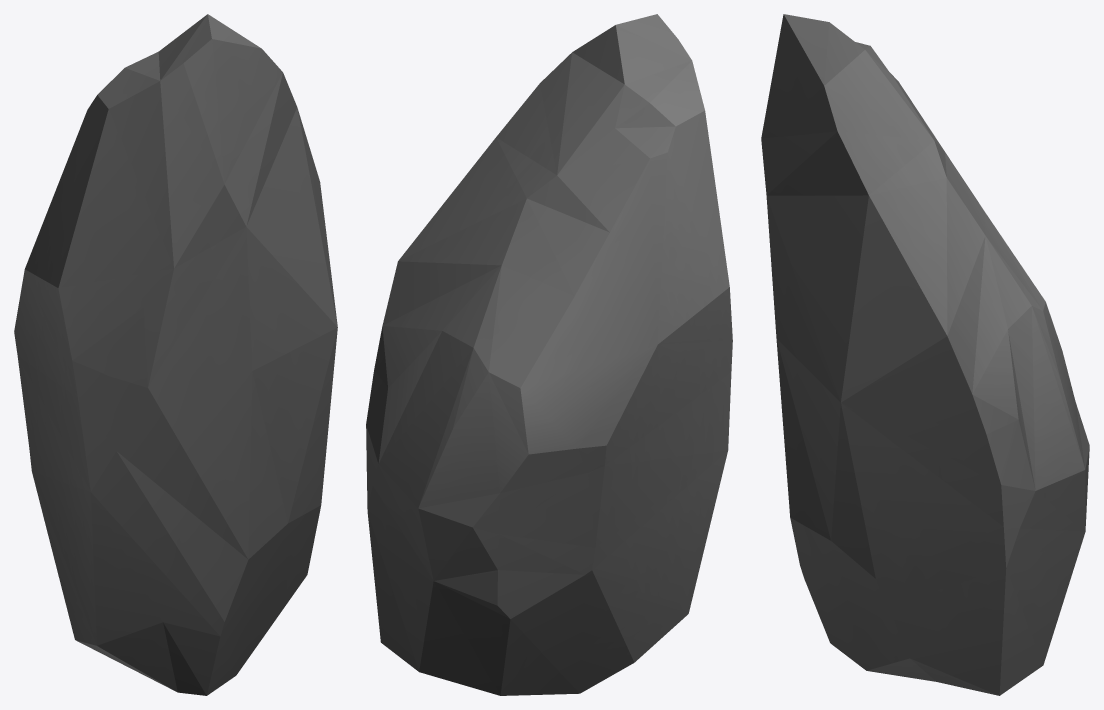
File: obsRock_01.fbx
3 renders of one model, left to right at view 1: azimuth 30°, elevation 25°; view 2: azimuth 150°, elevation 25°; view 3: azimuth 270°, elevation 25°, orthographic. The views are drawn at different scales.
Parts seen in each view (by area): view 1: obsRock_01; view 2: obsRock_01; view 3: obsRock_01.
Part boxes in pixels (x1,y1,x2,y2): obsRock_01: [14, 14, 337, 695]; obsRock_01: [366, 14, 732, 695]; obsRock_01: [761, 14, 1089, 695].
Size of the model in its own units: 273 by 561 by 266.
1 material, 1 textured.
